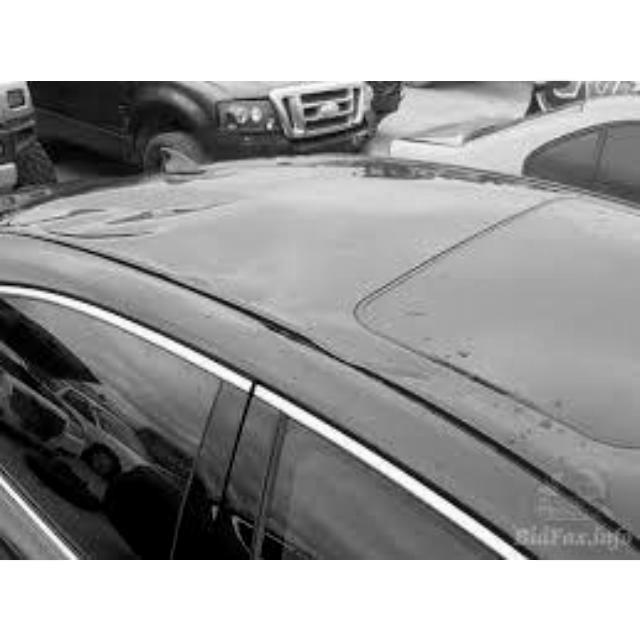roof-dent: (0, 165, 380, 362)
